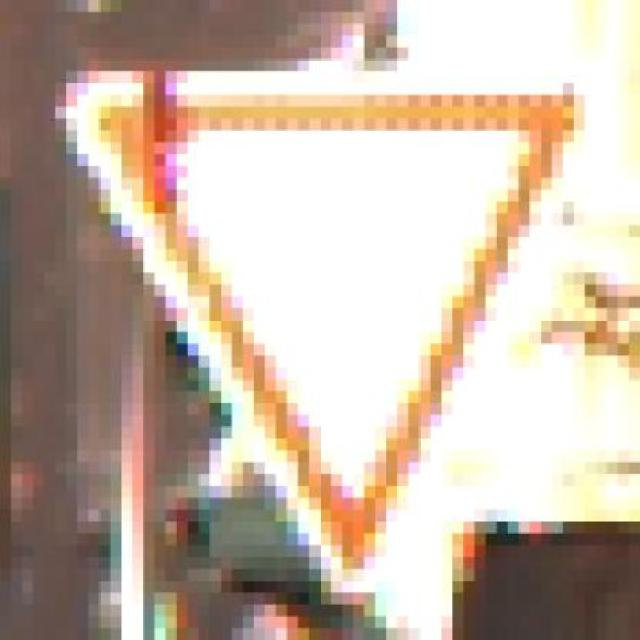Give Way: (66, 59, 596, 581)
